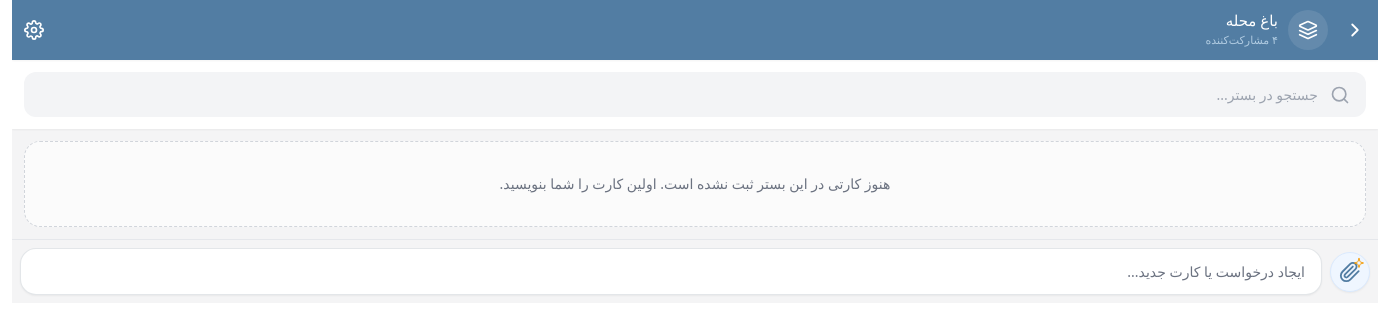
Test: SpacePage: everything that is not the conversation, behind the toolbar › creates and displays an invite link on demand
This screenshot has width=1390, height=320.
Expected: the heading "باغ محله" is shown, x1=1226 y1=10 x2=1278 y2=30
Click the button named "مدیریت بستر".
click(34, 30)  # box x1=16 y1=12 x2=52 y2=48
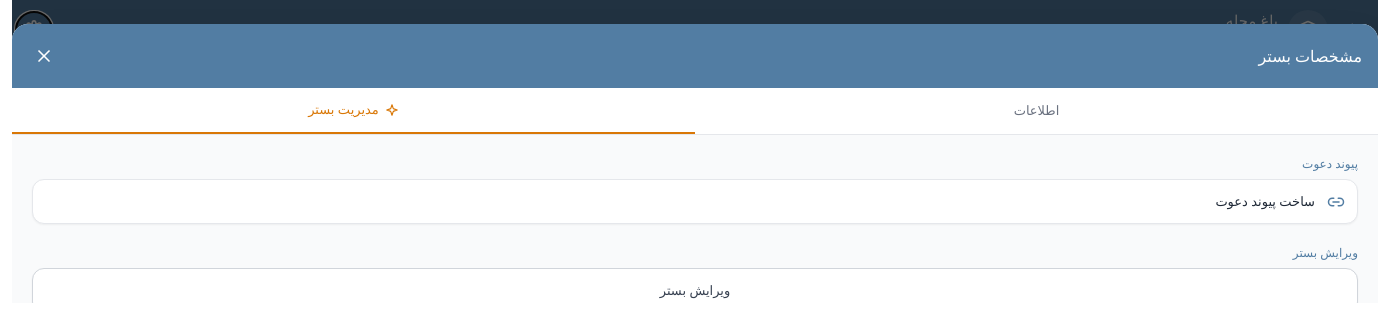
Click the button "ساخت پیوند دعوت".
click(1265, 201)  # box x1=32 y1=179 x2=1358 y2=224
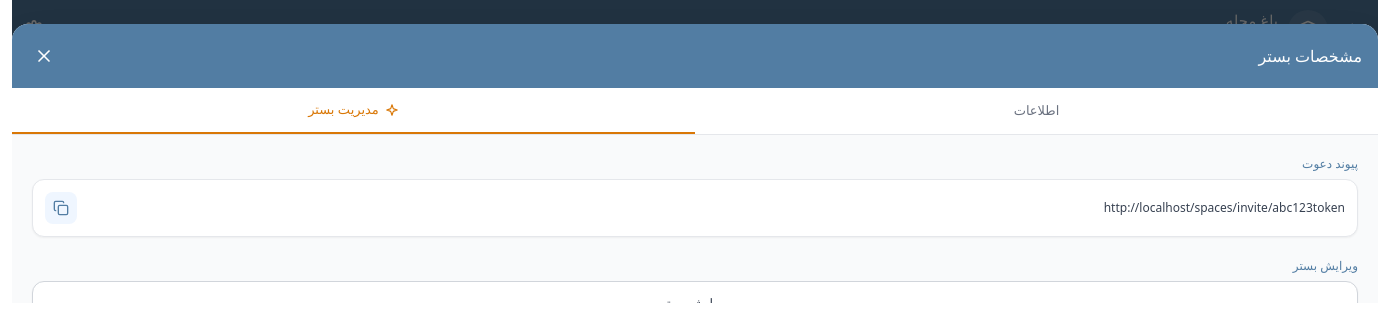
Now the text "http://localhost/spaces/invite/abc123token" is shown, box x1=1104 y1=199 x2=1345 y2=216
